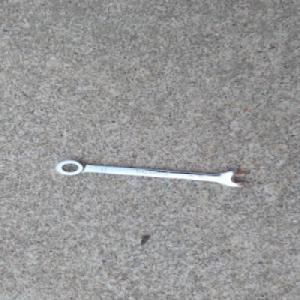Wrench: (53, 158, 249, 188)
